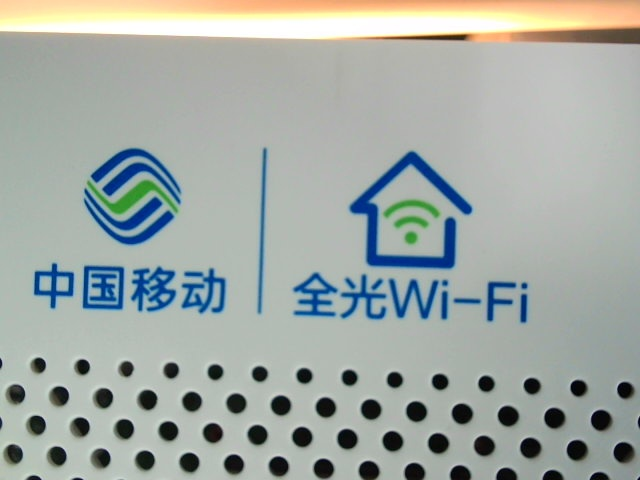BJ_QuanGuangMobile: (19, 143, 546, 333)
